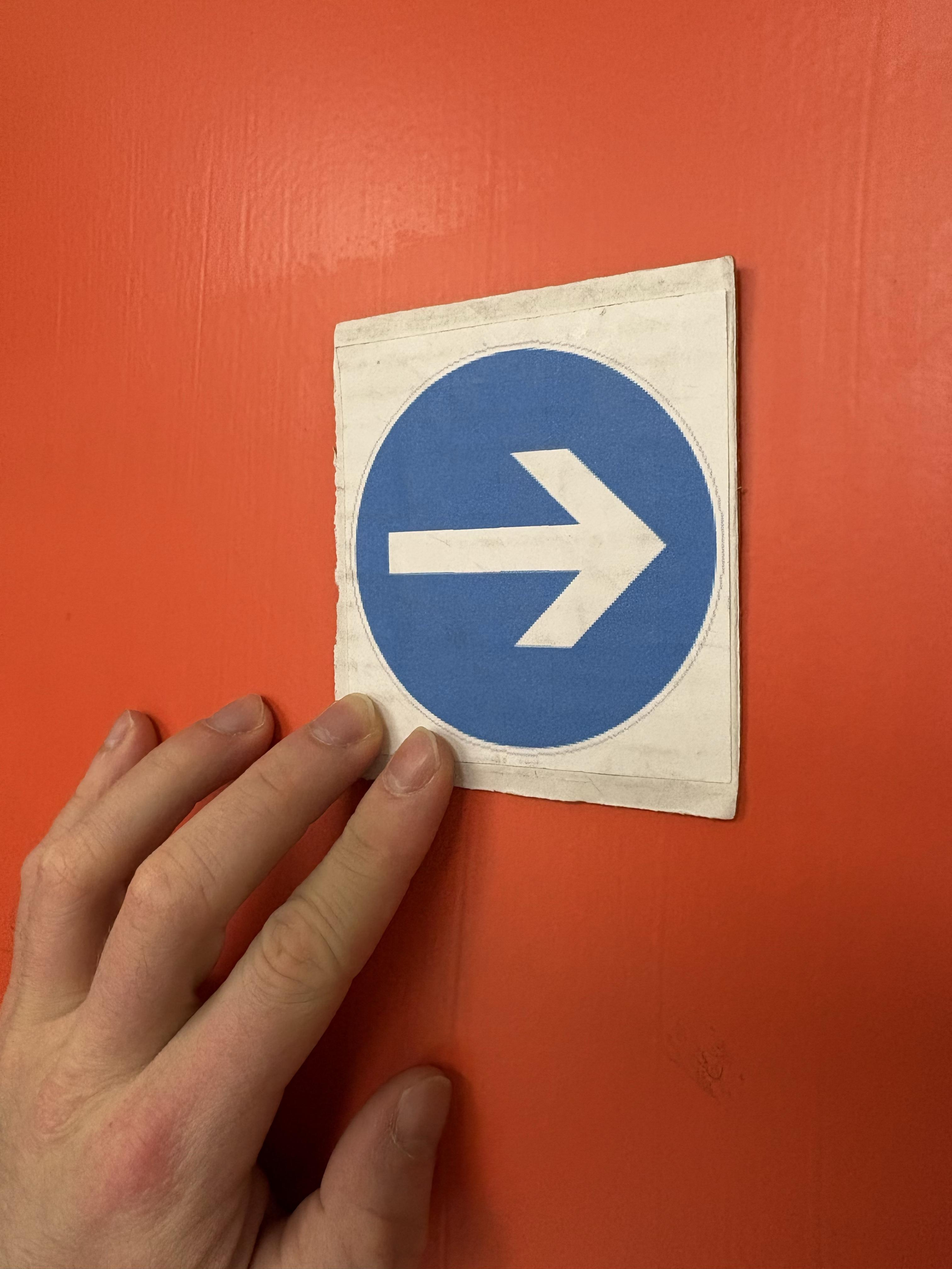Proceed Right: (249, 344, 552, 1091)
